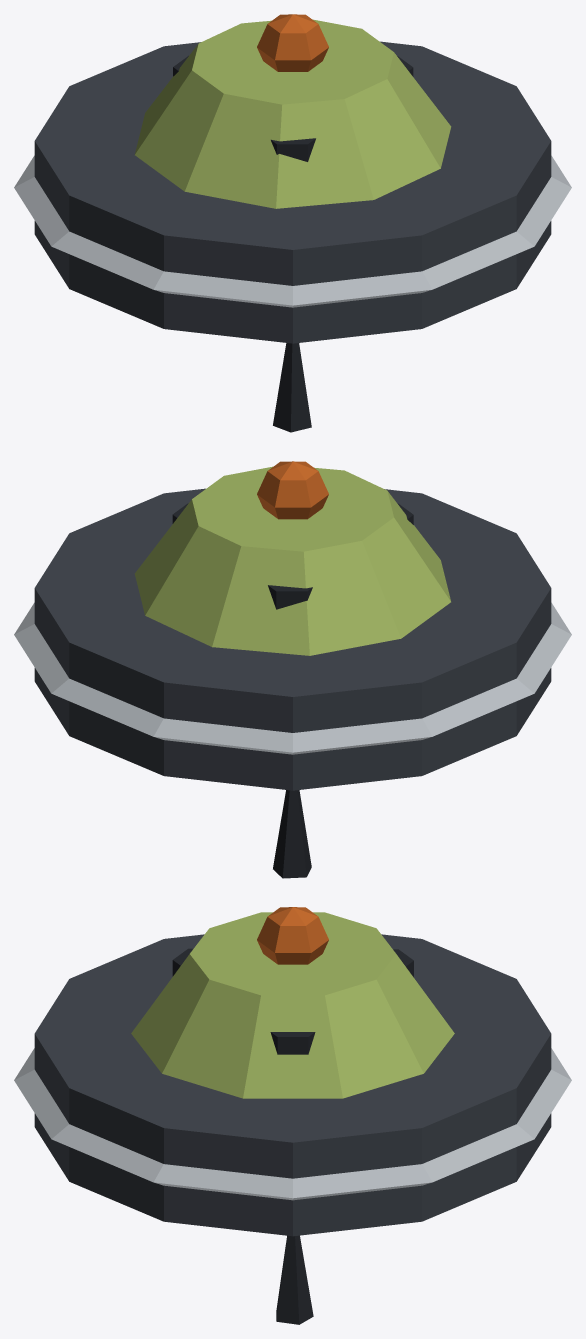
Rendered from mine-gas.glb.
3 views of the same model, one above another, from view 1: azimuth 30°, elevation 25°; view 2: azimuth 150°, elevation 25°; view 3: azimuth 270°, elevation 25° (orthographic).
Parts seen in each view (by area): view 1: m; view 2: m; view 3: m.
Part boxes in pixels (box(x1,y1,x2,y2)): m: box(14, 14, 571, 432); m: box(14, 461, 571, 878); m: box(14, 907, 571, 1324).
Size of the model in its own units: 0.1 by 0.0611 by 0.1.
